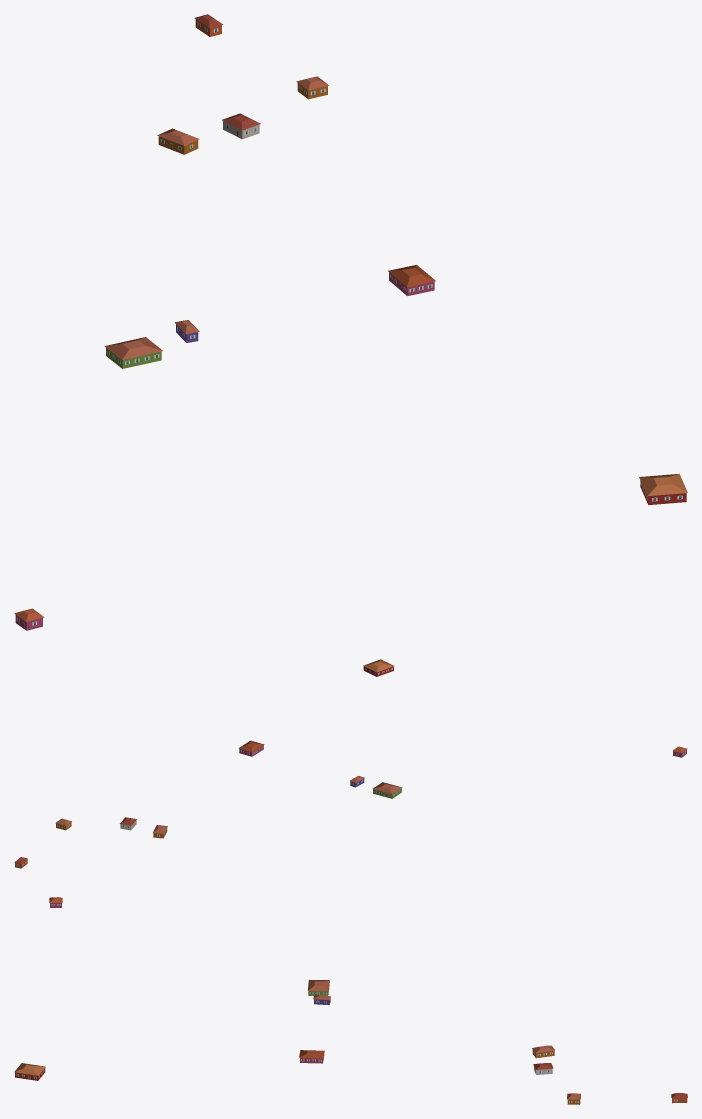
Rendered from msb_noord_m11_m12.glb.
3 renders of one model, top to bottom at view 1: azimuth 30°, elevation 25°; view 2: azimuth 150°, elevation 25°; view 3: azimuth 270°, elevation 25°, orthographic. The views are drawn at different scales.
Visible parts, largest first — view 1: msb_noord_m11_m12_lod0; view 2: msb_noord_m11_m12_lod0; view 3: msb_noord_m11_m12_lod0.
Part boxes in pixels (box(x1,y1,x2,y2)): msb_noord_m11_m12_lod0: box(14, 14, 687, 630); msb_noord_m11_m12_lod0: box(14, 659, 687, 868); msb_noord_m11_m12_lod0: box(14, 897, 687, 1104).
Size of what is drawn, in the model's own units: 294 by 14.58 by 399.
2 materials, 1 textured.
